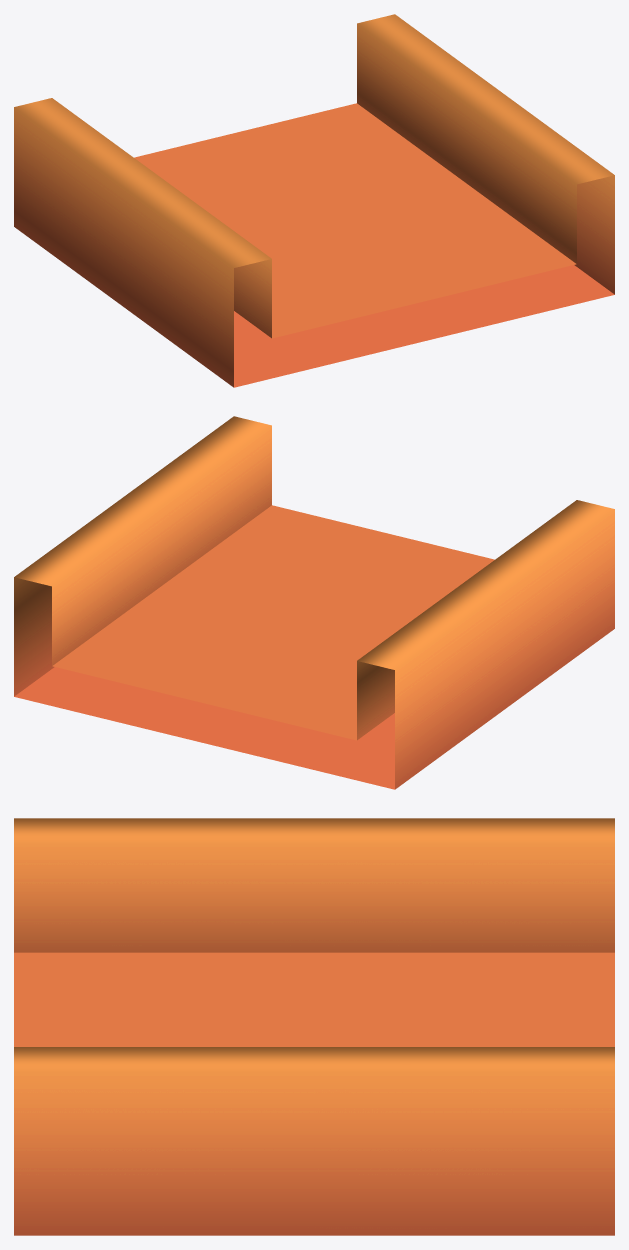
The model's file is track-narrow.glb.
3 renders of one model, top to bottom at view 1: azimuth 30°, elevation 25°; view 2: azimuth 150°, elevation 25°; view 3: azimuth 270°, elevation 25°, orthographic. The views are drawn at different scales.
Parts seen in each view (by area): view 1: track-narrow; view 2: track-narrow; view 3: track-narrow.
Boxes of the visible parts, box(x1,y1,x2,y2) form: track-narrow: box(14, 14, 614, 387); track-narrow: box(14, 416, 614, 789); track-narrow: box(14, 818, 614, 1235).
Bounding box in the file's own units: 1 × 0.3 × 1.
1 material, 1 textured.
